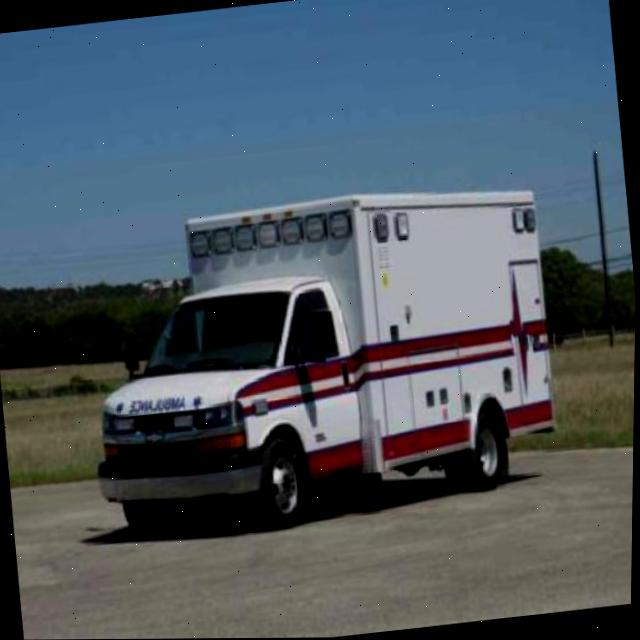emergency: (70, 171, 568, 548)
